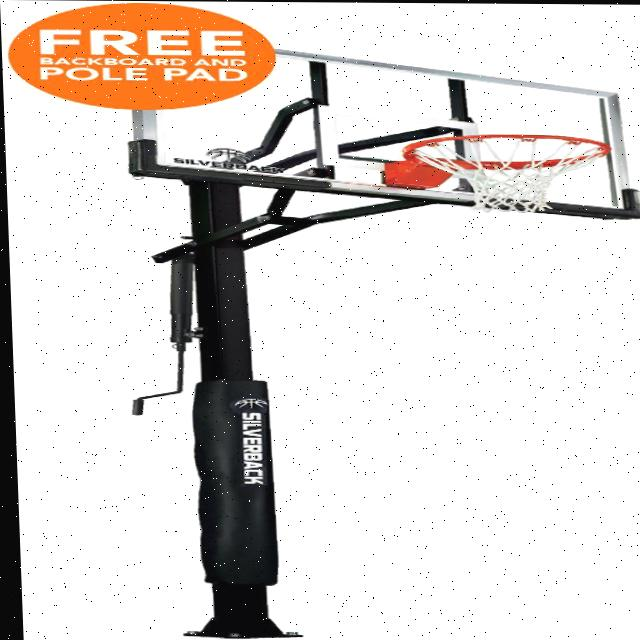hoop: (403, 133, 614, 213)
